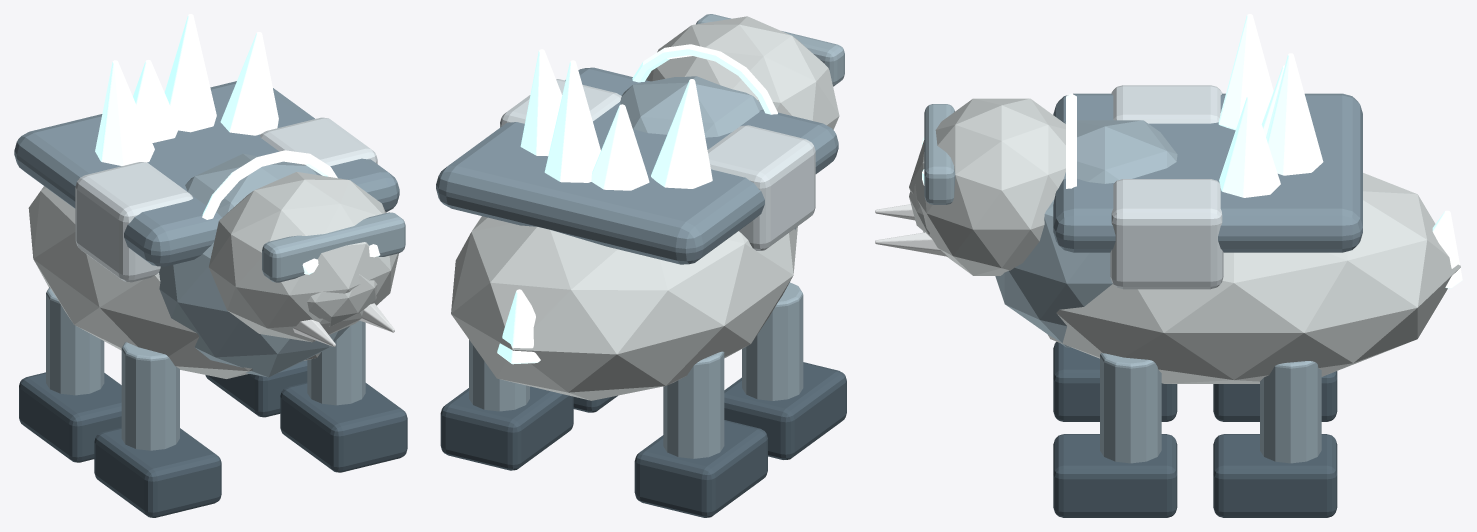
The model's file is frost_fang.glb.
3 views of the same model, side by side, from view 1: azimuth 30°, elevation 25°; view 2: azimuth 150°, elevation 25°; view 3: azimuth 270°, elevation 25° (orthographic). The views are drawn at different scales.
Parts seen in each view (by area): view 1: FrostHead, FrostHarness, FrostBody, FrostChest, Paw0.44-0.32, Paw-0.44-0.32, ShoulderIceL, Paw-0.440.3, Leg-0.44-0.32, FrostBrow, Leg-0.440.3, IceSpine0 (+10 smaller); view 2: FrostBody, FrostHarness, FrostHead, Paw-0.440.3, ShoulderIceL, Paw0.440.3, Paw-0.44-0.32, Leg-0.440.3, FrostChest, Leg-0.44-0.32, IceSpine2, IceSpine0 (+7 smaller); view 3: FrostBody, FrostHarness, FrostHead, FrostChest, ShoulderIceR, Paw0.44-0.32, Paw0.440.3, Leg0.44-0.32, Leg0.440.3, IceSpine2, ShoulderIceL, Paw-0.44-0.32 (+7 smaller).
Part boxes in pixels (left/top/right/bottom): FrostHead: left=209, top=172, right=398, bottom=342; FrostHarness: left=14, top=81, right=399, bottom=266; FrostBody: left=28, top=186, right=320, bottom=378; FrostChest: left=159, top=153, right=349, bottom=377; Paw0.44-0.32: left=280, top=382, right=407, bottom=472; Paw-0.44-0.32: left=94, top=427, right=221, bottom=517; ShoulderIceL: left=75, top=162, right=192, bottom=282; Paw-0.440.3: left=19, top=372, right=121, bottom=462; Leg-0.44-0.32: left=121, top=342, right=179, bottom=450; FrostBrow: left=262, top=212, right=405, bottom=282; Leg-0.440.3: left=46, top=287, right=104, bottom=395; IceSpine0: left=95, top=60, right=154, bottom=165; FrostBody: left=451, top=216, right=797, bottom=400; FrostHarness: left=436, top=67, right=838, bottom=264; FrostHead: left=646, top=16, right=839, bottom=129; Paw-0.440.3: left=634, top=420, right=767, bottom=517; ShoulderIceL: left=707, top=125, right=815, bottom=250; Paw0.440.3: left=440, top=386, right=573, bottom=470; Paw-0.44-0.32: left=724, top=362, right=846, bottom=459; Leg-0.440.3: left=663, top=351, right=724, bottom=458; FrostChest: left=620, top=76, right=796, bottom=229; Leg-0.44-0.32: left=742, top=282, right=803, bottom=400; IceSpine2: left=544, top=60, right=600, bottom=182; IceSpine0: left=651, top=79, right=712, bottom=188; FrostBody: left=1047, top=173, right=1460, bottom=383; FrostHarness: left=1053, top=93, right=1362, bottom=252; FrostHead: left=909, top=98, right=1065, bottom=275; FrostChest: left=995, top=120, right=1177, bottom=347; ShoulderIceR: left=1110, top=179, right=1223, bottom=289; Paw0.44-0.32: left=1053, top=434, right=1177, bottom=517; Paw0.440.3: left=1213, top=434, right=1337, bottom=517; Leg0.44-0.32: left=1100, top=353, right=1161, bottom=463; Leg0.440.3: left=1260, top=361, right=1321, bottom=463; IceSpine2: left=1266, top=53, right=1323, bottom=175; ShoulderIceL: left=1111, top=85, right=1222, bottom=123; Paw-0.44-0.32: left=1053, top=341, right=1177, bottom=421.
Size of the model in its own units: 1.24 by 1.76 by 2.28.
